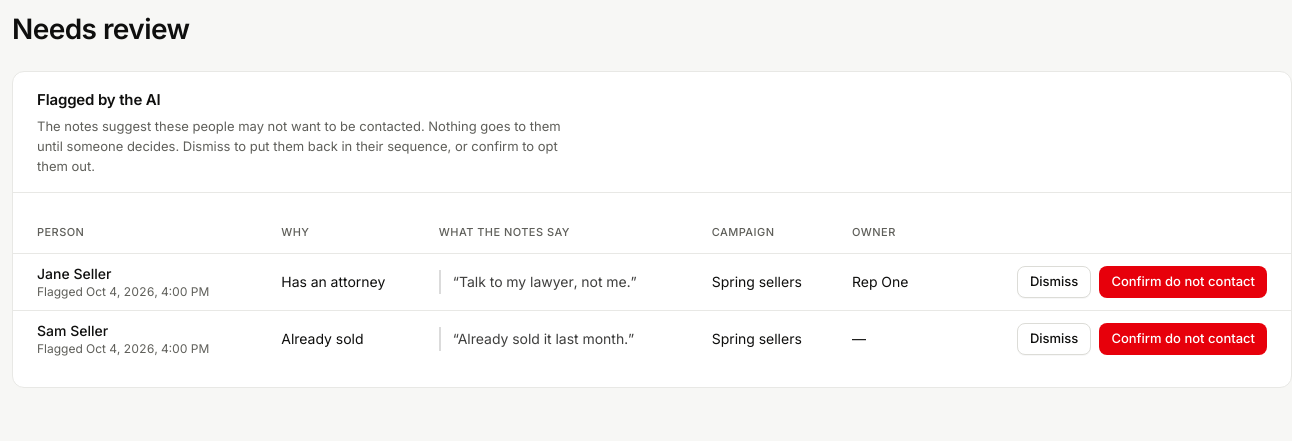
ReviewPage › explains when someone other than the owner or an admin tries to decide
What coordinates should you click on to do the following:
click the button with aria-label "Dismiss flag for Jane Seller"
I would click on:
 (1054, 282)
Its box is [1017,266,1091,298].
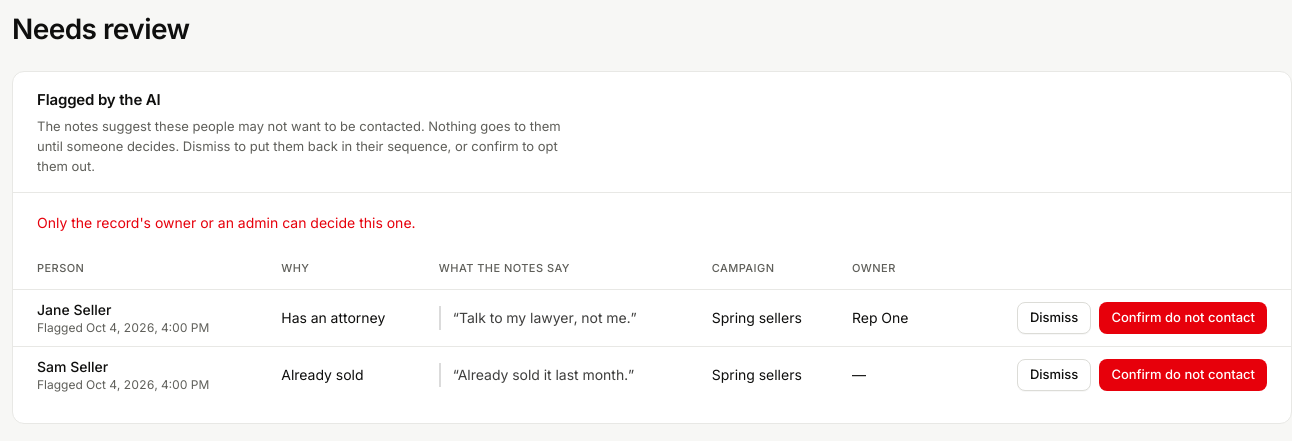
Check: the text "Jane Seller" is shown, box [37,300,111,318]
Check: the message reads "Only the record's owner or an admin can decide this one.", box [37,214,416,231]
